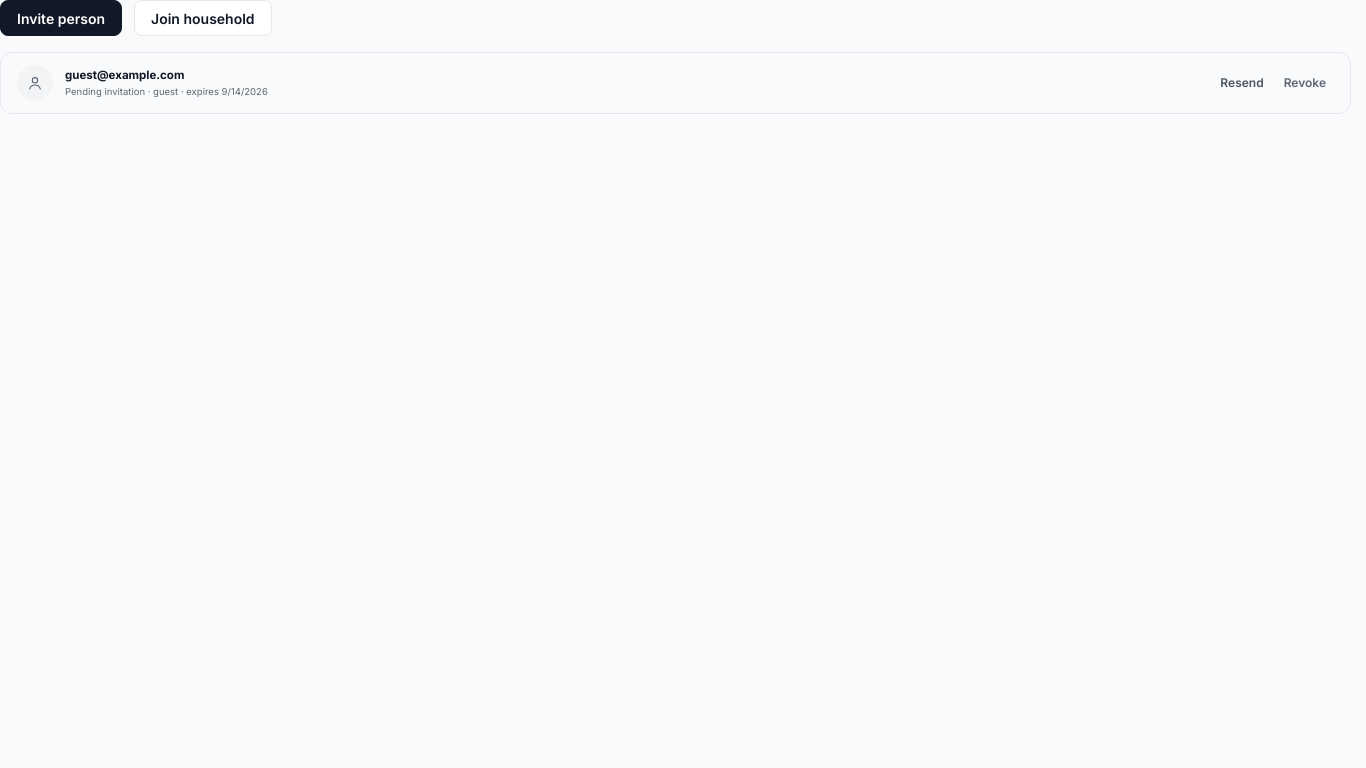
Scenario: HouseholdSharingSettings › resends a pending invitation with a fresh code
Expected: the text "guest@example.com" is shown, [65,68,184,82]
Click the button "Resend": (1242,83) [1212,65,1272,101]
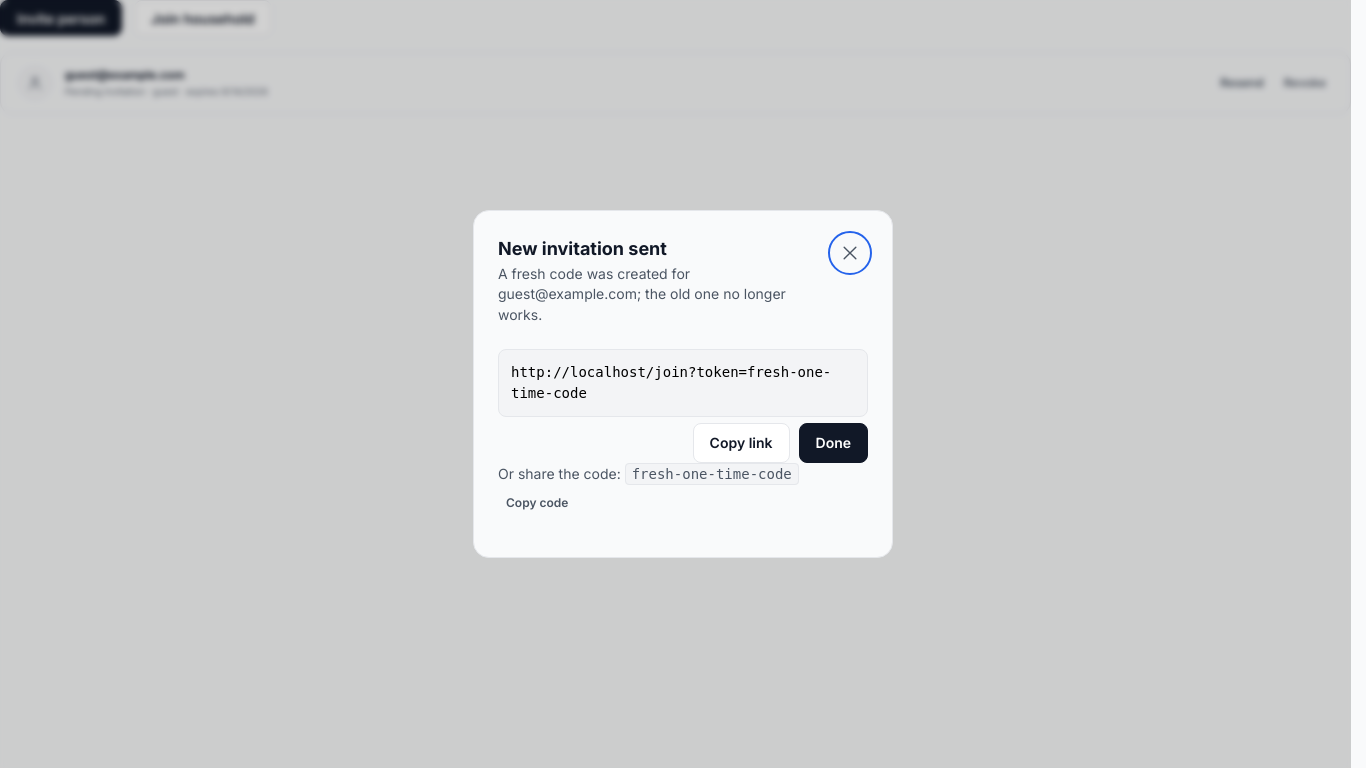
Expected: the button "Copy link" is shown, [693,423,790,463]
Expected: the text "fresh-one-time-code" is shown, [625,463,799,485]
Expected: the text "A fresh code was created for guest@example.com" is shown, [498,264,816,325]
